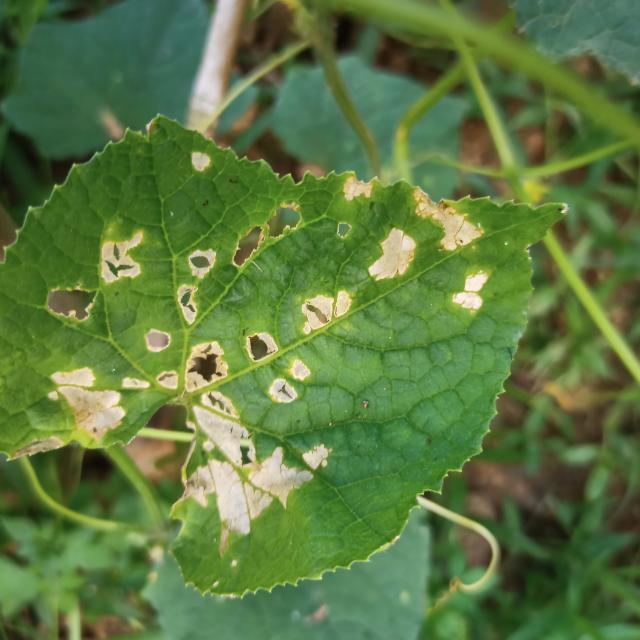disease_cucumber: (39, 228, 354, 545), (231, 164, 534, 337), (184, 148, 217, 175)
